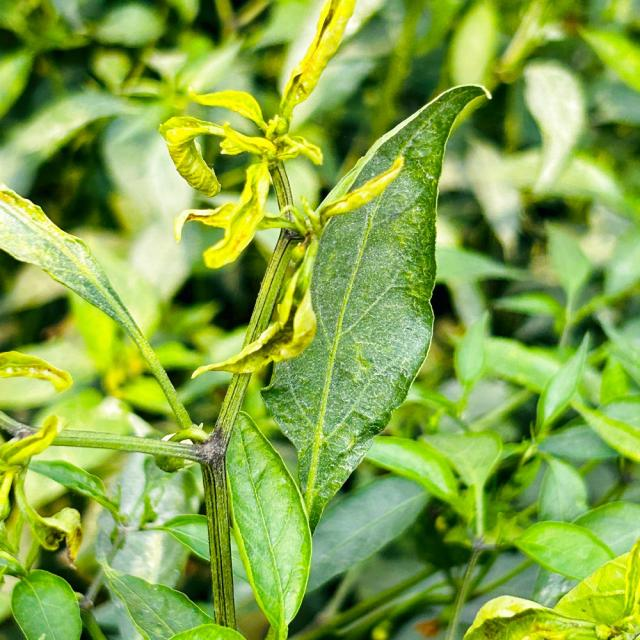Chilli_Leaf_Curl: (1, 1, 494, 638), (257, 82, 492, 534), (157, 0, 357, 269), (0, 183, 198, 436), (222, 409, 313, 638), (462, 537, 639, 639)
